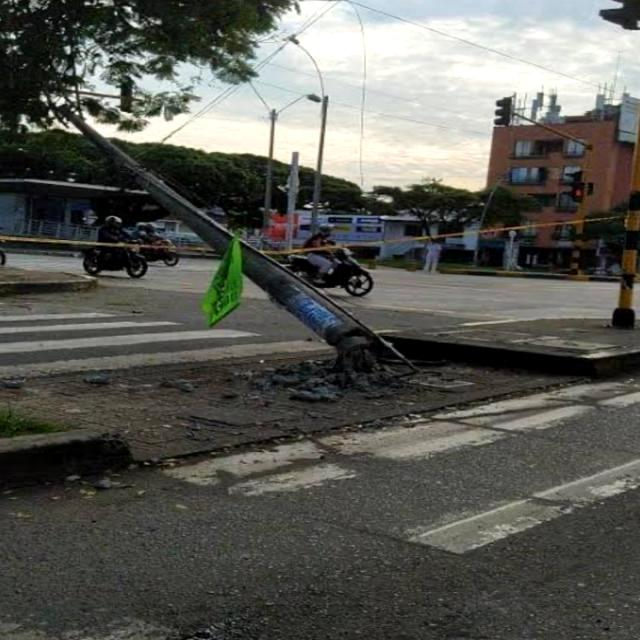Broken Pole: (57, 103, 385, 381)
